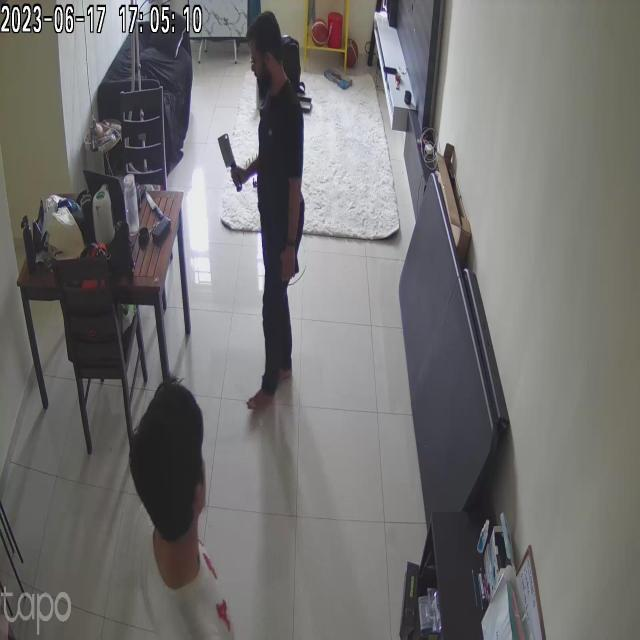Knife: (214, 125, 255, 199)
